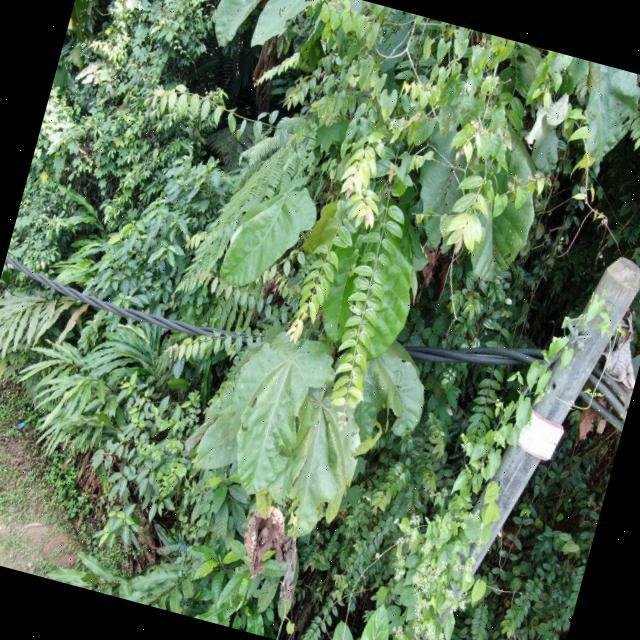critical vegetation: (378, 249, 639, 640)
